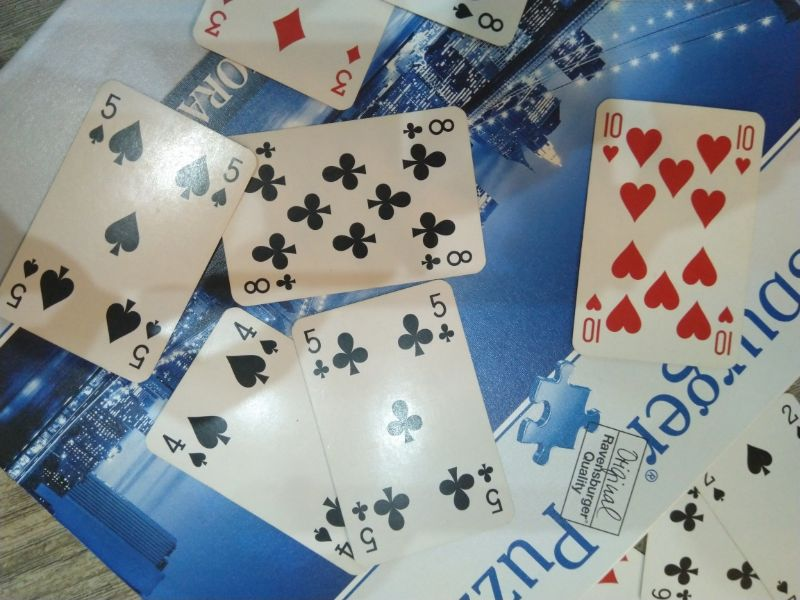3d: (330, 43, 362, 98)
4s: (159, 430, 211, 470), (310, 522, 356, 563), (232, 320, 281, 355)
5c: (299, 328, 335, 380), (349, 498, 381, 554), (475, 459, 506, 515), (426, 290, 456, 343)
5s: (86, 91, 127, 148), (125, 316, 167, 371), (209, 155, 248, 211), (3, 256, 43, 310)
6c: (648, 582, 696, 600)
8c: (399, 114, 460, 142), (419, 245, 475, 274), (241, 271, 299, 297)
8s: (449, 1, 506, 36)
Th: (601, 109, 627, 165), (732, 122, 759, 175), (581, 290, 606, 346), (713, 303, 737, 359)
